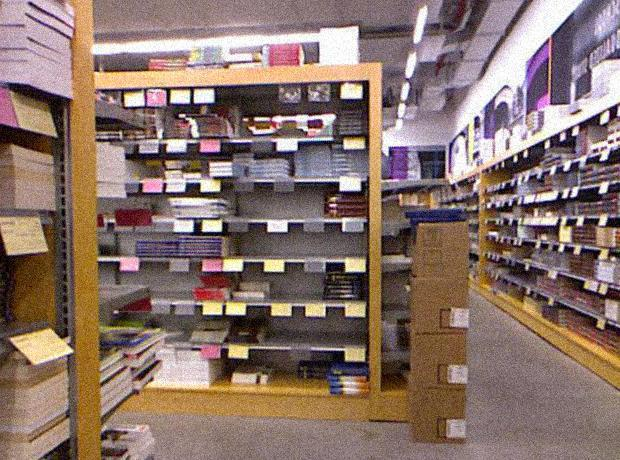Armario: (1, 0, 95, 455), (481, 98, 619, 384)
